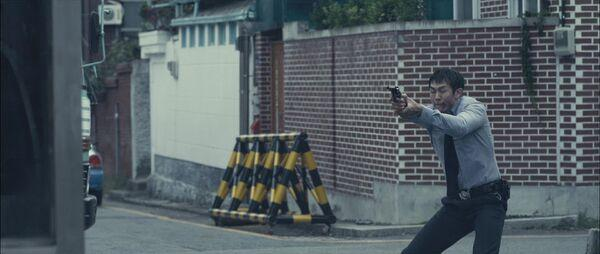Gun: (386, 85, 402, 100)
